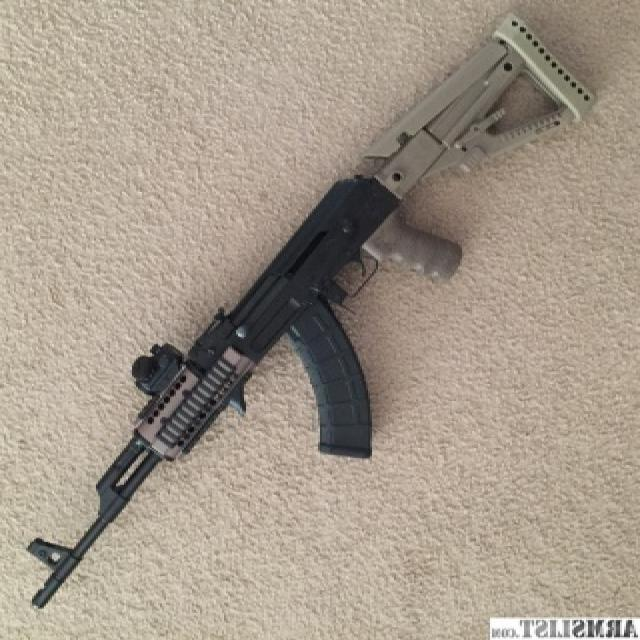rifle: (27, 1, 613, 613)
